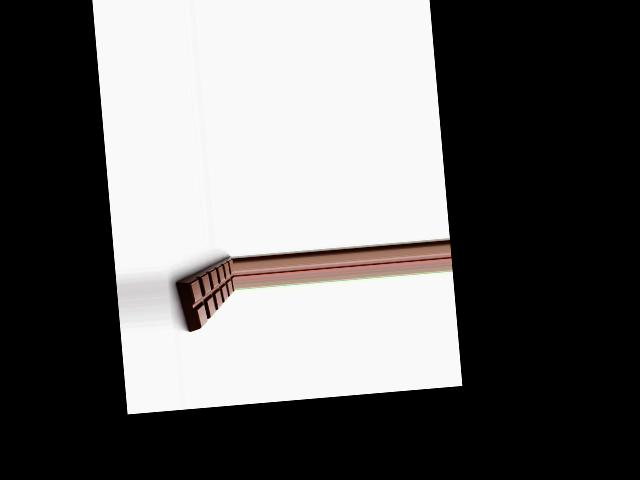chocolate: (172, 252, 237, 333)
